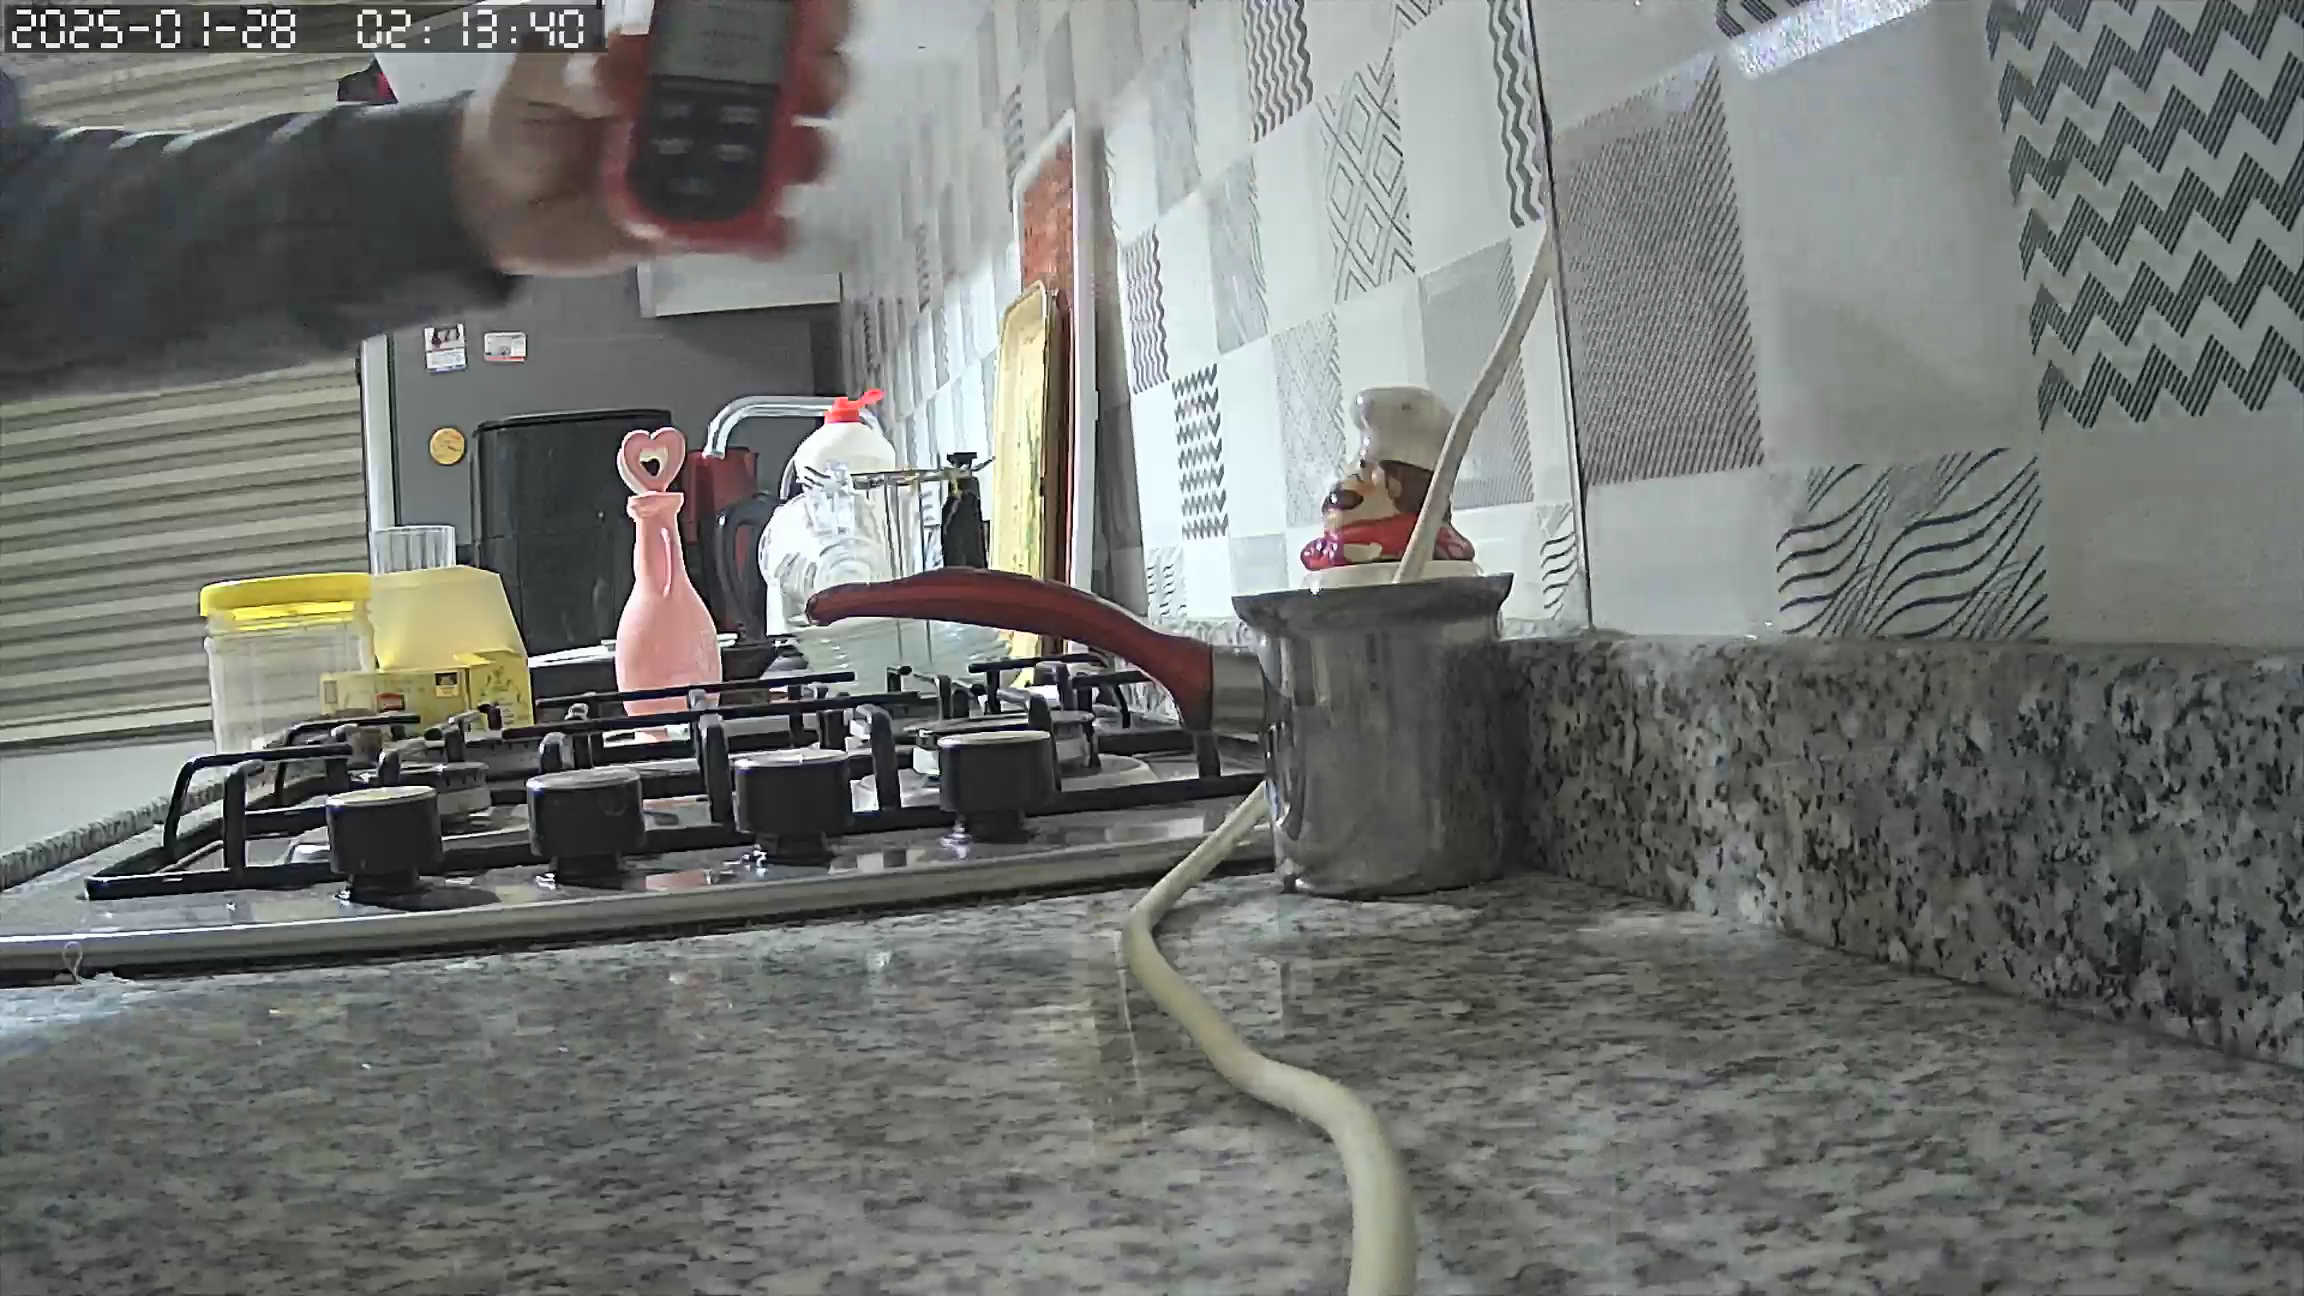screen: (654, 2, 786, 84)
